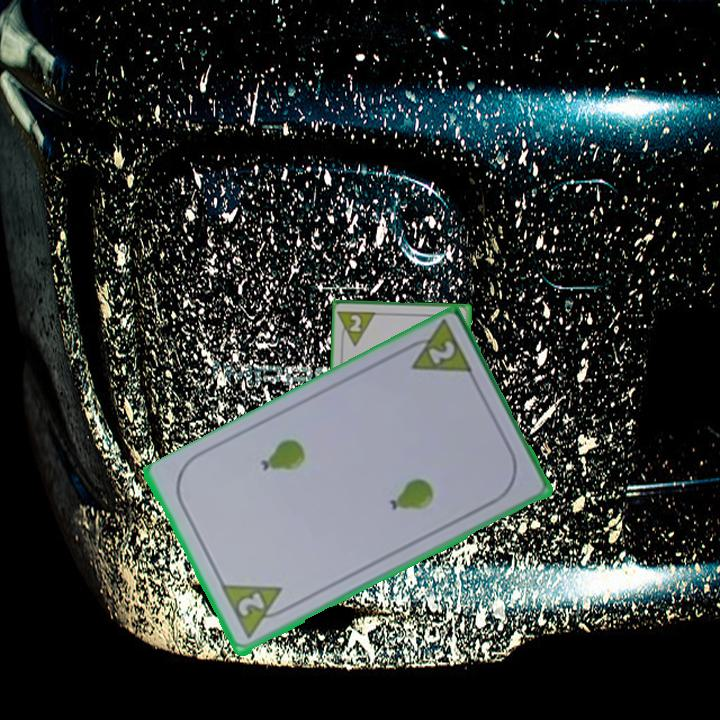2p: (397, 319, 476, 379), (336, 308, 381, 350), (233, 589, 268, 621)
